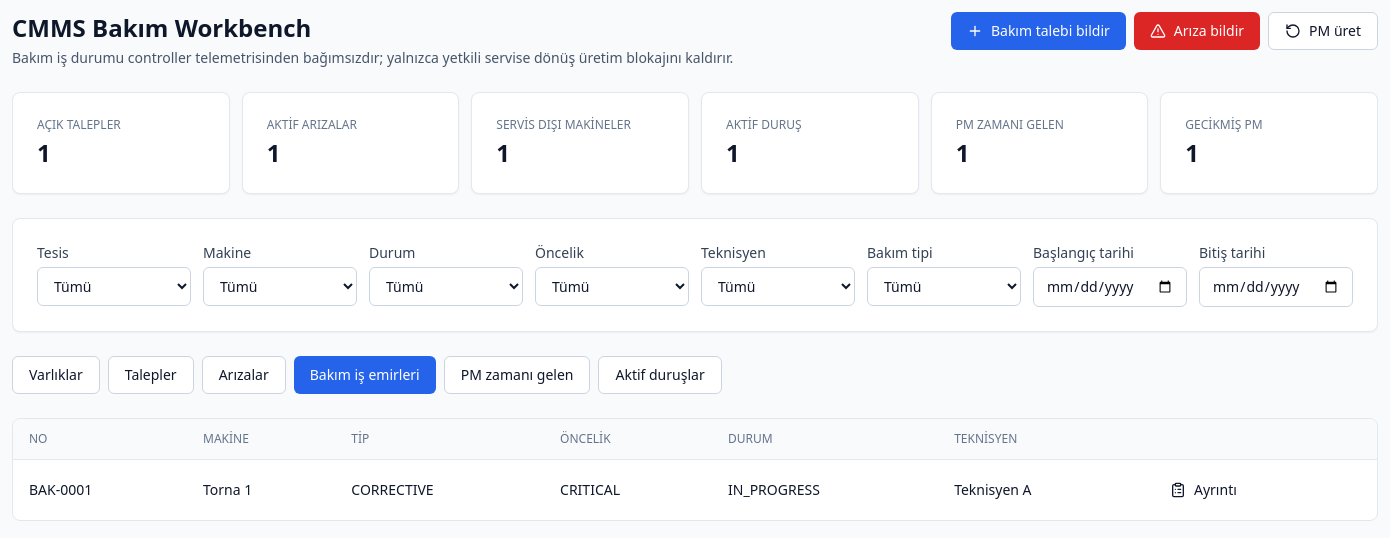
it: MaintenanceOrdersPage — CNC-V1-07R workbench › shows required KPIs, queues and filters without /machines
The width and height of the screenshot is (1390, 538).
Expected: the heading "CMMS Bakım Workbench" is shown, [12,11,311,44]
Expected: the text "Açık talepler" is shown, [37,116,121,133]
Step 1. Click the button "Varlıklar" → (56, 375), box [12,356,100,394]
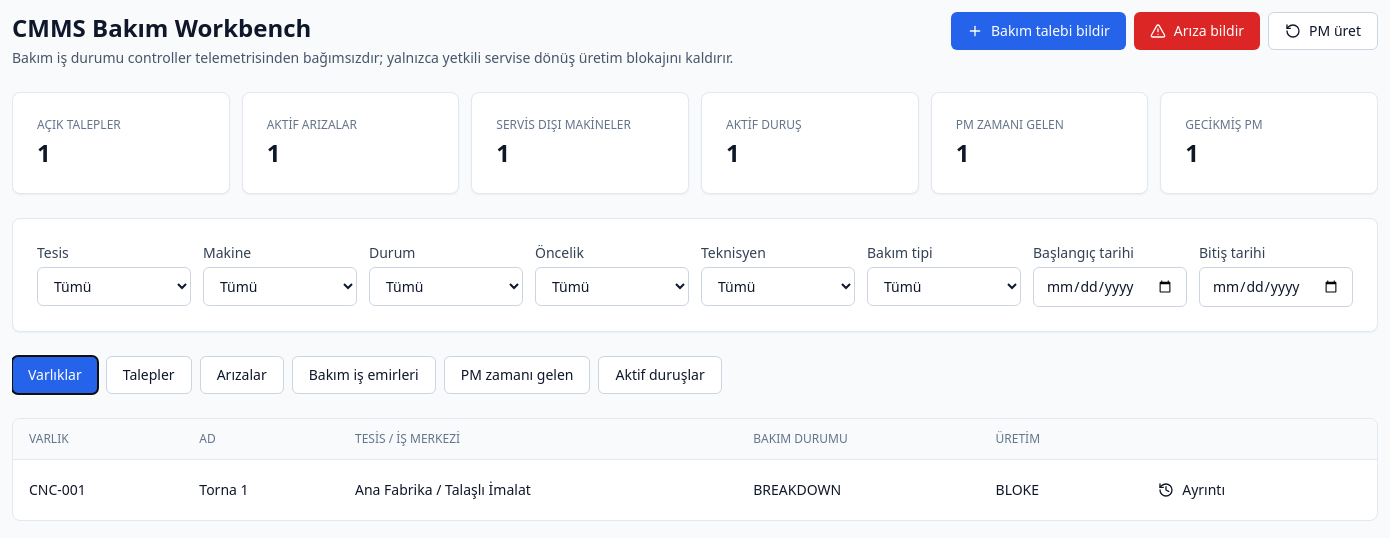
Result: the text "CNC-001" is shown at [13,460,183,520]
